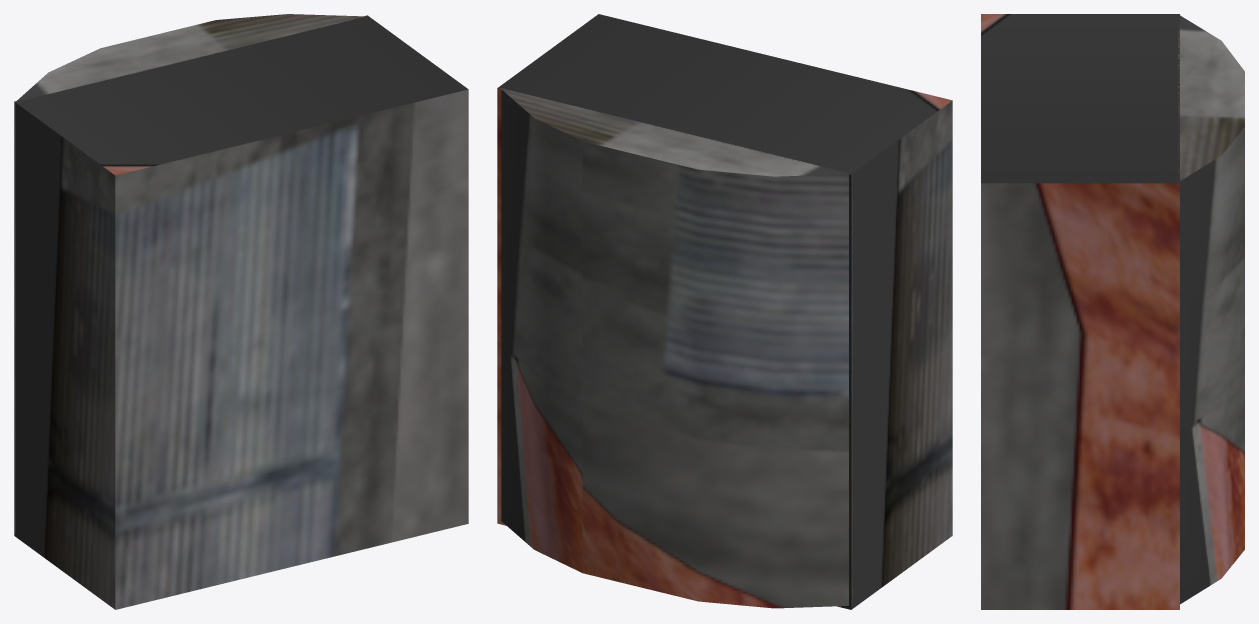
The model's file is hangar.FBX.
3 views of the same model, side by side, from view 1: azimuth 30°, elevation 25°; view 2: azimuth 150°, elevation 25°; view 3: azimuth 270°, elevation 25° (orthographic). The views are drawn at different scales.
Parts seen in each view (by area): view 1: Box001; view 2: Box001; view 3: Box001.
Boxes of the visible parts, left/top/right/bottom form: Box001: left=14, top=14, right=468, bottom=609; Box001: left=497, top=14, right=952, bottom=609; Box001: left=981, top=14, right=1244, bottom=609.
Size of the model in its own units: 1.5 by 1.76 by 0.9879.
